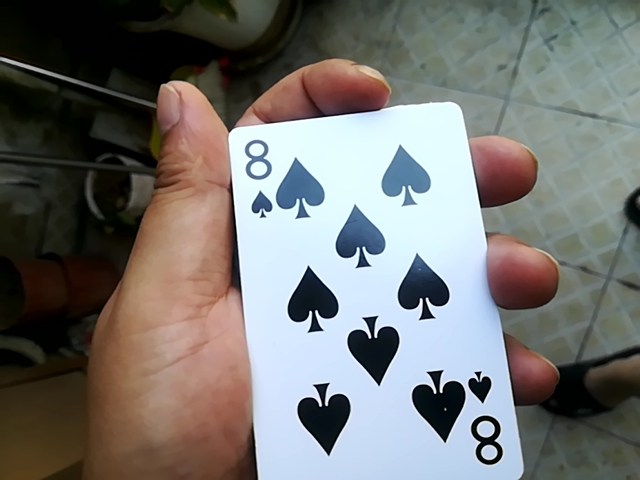ht 8: (213, 97, 516, 477)
